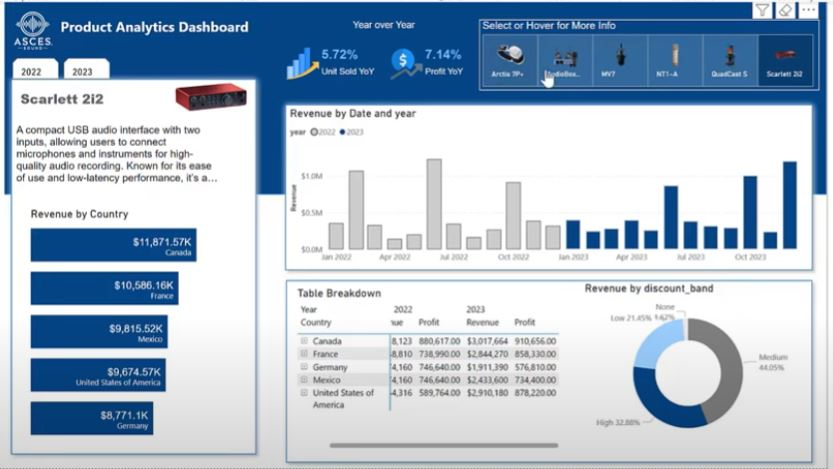

Layout of this report page (visuals, bound fields, positions):
{"tool":"powerbi","page":{"name":"Sales Insights","canvas":[1800,1000],"ordinal":0},"visuals":[{"type":"shape","box":[0,0,1800,525.8],"z":0},{"type":"shape","box":[0,192.2,535.4,780],"z":1000},{"type":"shape","box":[535.3,247.1,1264.7,375.3],"z":2000},{"type":"shape","box":[535.3,617.6,1264.7,376.5],"z":3000},{"type":"image","box":[10.6,28.2,69.4,60],"z":4000},{"type":"textbox","box":[80,28.2,455.3,60],"z":5000},{"type":"advancedSlicerVisual","title":"Products","fields":{"Values":["Cleaned_Data.Image url"]},"box":[937.1,28.6,847.3,196.5],"z":6000},{"type":"shape","title":"KPI''s","box":[544.7,28.2,392.9,196.5],"z":7000},{"type":"cardVisual","fields":{"Data":["_Measures.YOY Revenue Display","_Measures.YOY Quantity Display","_Measures.YOY Cost Display","_Measures.YOY Profit Display"]},"box":[552.9,58.8,376.5,165.9],"z":8000},{"type":"cardVisual","fields":{"Data":["Min(Cleaned_Data.Product)"]},"box":[18.8,214.1,498.8,136.5],"z":9000},{"type":"clusteredBarChart","title":"Revenue by Country","fields":{"Category":["Cleaned_Data.Country"],"Y":["_Measures.Total Revenue"]},"box":[45.9,387.1,448.2,551.8],"z":10000},{"type":"lineChart","title":"Revenue by Date","fields":{"Y":["_Measures.Total Revenue"],"Category":["Calendar.Date"]},"box":[551.8,334.1,1231.8,270.6],"z":11000},{"type":"slicer","fields":{"Values":["KPI Parameters.KPI Parameters"]},"box":[552.9,262.4,1231.8,71.8],"z":12000},{"type":"donutChart","fields":{"Y":["_Measures.Total Revenue"],"Category":["Cleaned_Data.Discount Band"]},"box":[1384.7,640,400,334.1],"z":13000},{"type":"pivotTable","title":"Revenue and Profit by Year and Country","fields":{"Values":["_Measures.Total Revenue","_Measures.Total Profit"],"Rows":["Cleaned_Data.Country"],"Columns":["Calendar.Year"]},"box":[553.1,640.3,808.2,341],"z":14000},{"type":"advancedSlicerVisual","fields":{"Values":["Calendar.Year"]},"box":[268.1,118.4,326.7,72.9],"z":15000},{"type":"actionButton","box":[18.8,136.5,75.3,55.3],"z":16000}]}

Visuals, with their boxes in screenshot pixels (x1, y1, x2, y2), scaled from the page's 1800x1000 canvas onto the 833x469 screenshot:
shape: [0,0,832,247]
shape: [0,90,248,456]
shape: [248,116,832,292]
shape: [248,290,832,466]
image: [5,13,37,41]
textbox: [37,13,248,41]
"Products" advancedSlicerVisual: [434,13,826,106]
"KPI''s" shape: [252,13,434,105]
cardVisual - _Measures.YOY Revenue Display x _Measures.YOY Quantity Display: [256,28,430,105]
cardVisual - Min(Cleaned_Data.Product): [9,100,240,164]
"Revenue by Country" clusteredBarChart: [21,182,229,440]
"Revenue by Date" lineChart: [255,157,825,284]
slicer - KPI Parameters.KPI Parameters: [256,123,826,157]
donutChart - _Measures.Total Revenue x Cleaned_Data.Discount Band: [641,300,826,457]
"Revenue and Profit by Year and Country" pivotTable: [256,300,630,460]
advancedSlicerVisual - Calendar.Year: [124,56,275,90]
actionButton: [9,64,44,90]
